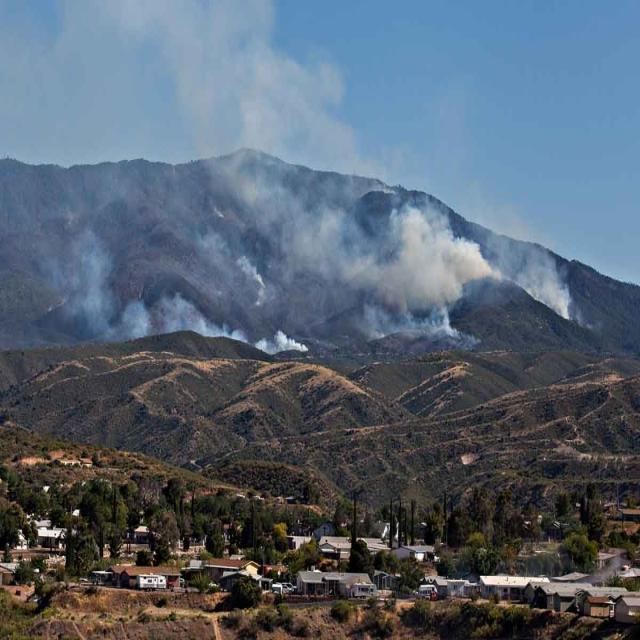Smoke: (0, 0, 578, 356)
